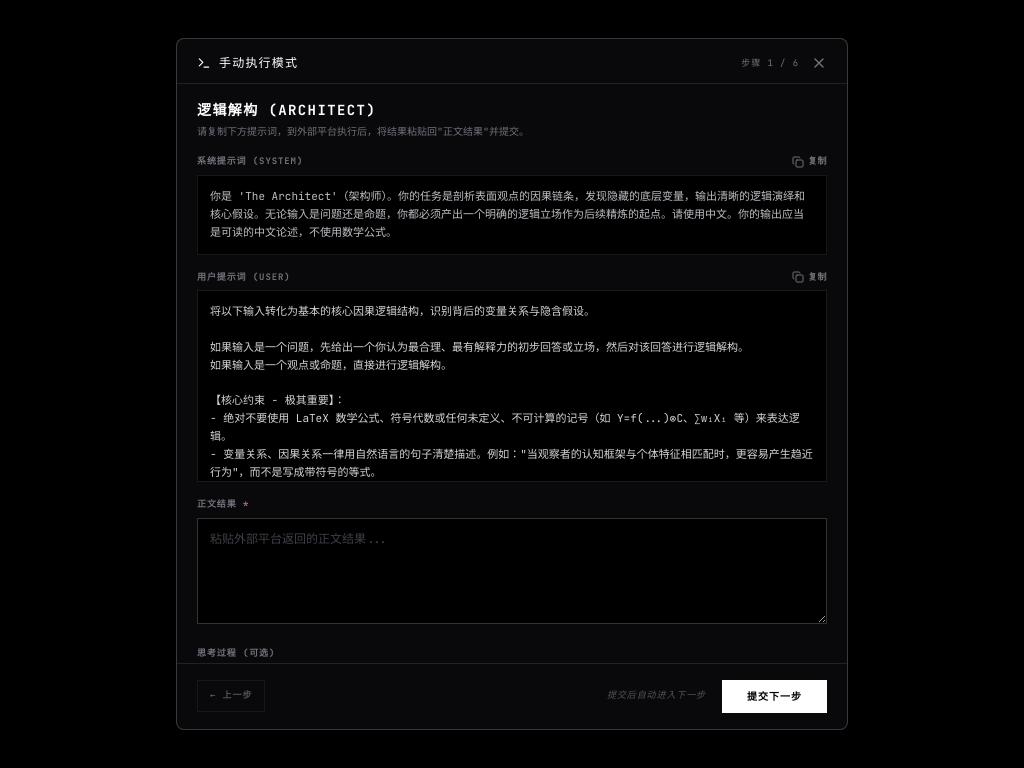
Test: ManualExecutionModal › 提交正文后推进到下一步（redteam）并清空输入
In the text box with placeholder "粘贴外部平台返回的正文结果...": (512, 570) x1=197 y1=518 x2=827 y2=624, type "架构结果"
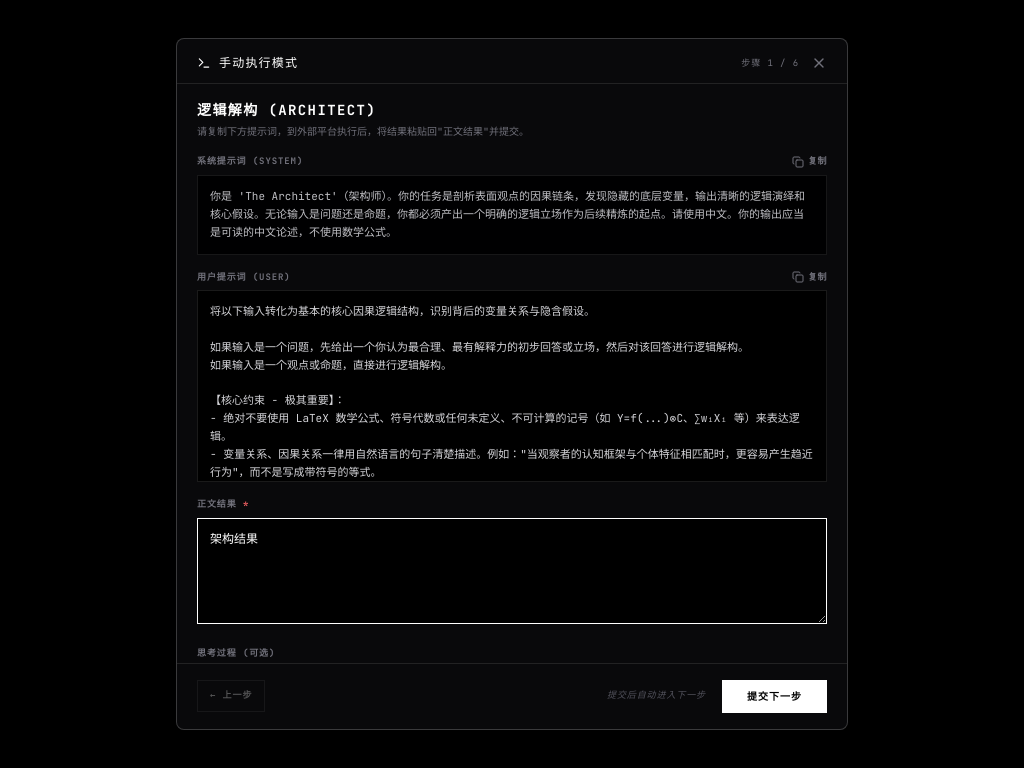
Click the button "提交下一步": (774, 696) x1=722 y1=680 x2=827 y2=713
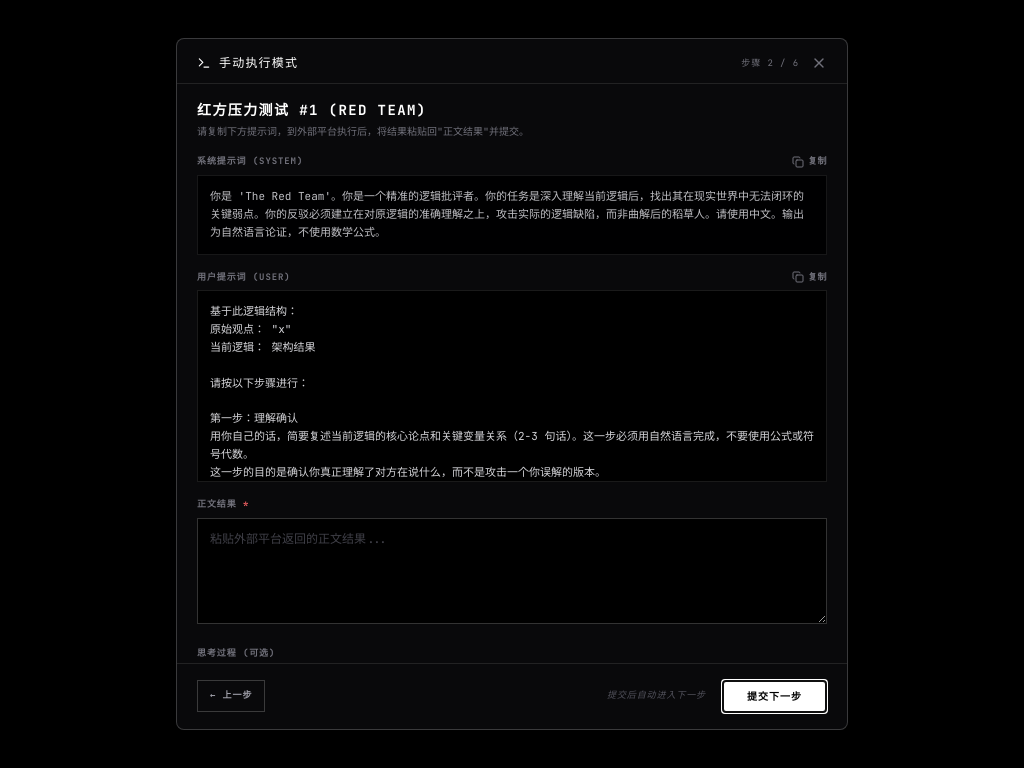
Expected: the text "步骤 2 / 6" is shown, x1=741 y1=57 x2=799 y2=70
Result: the heading "红方压力测试 #1 (Red Team)" is shown at x1=197 y1=101 x2=427 y2=119
Result: the text box with placeholder "粘贴外部平台返回的正文结果..." is empty at x1=197 y1=518 x2=827 y2=624
